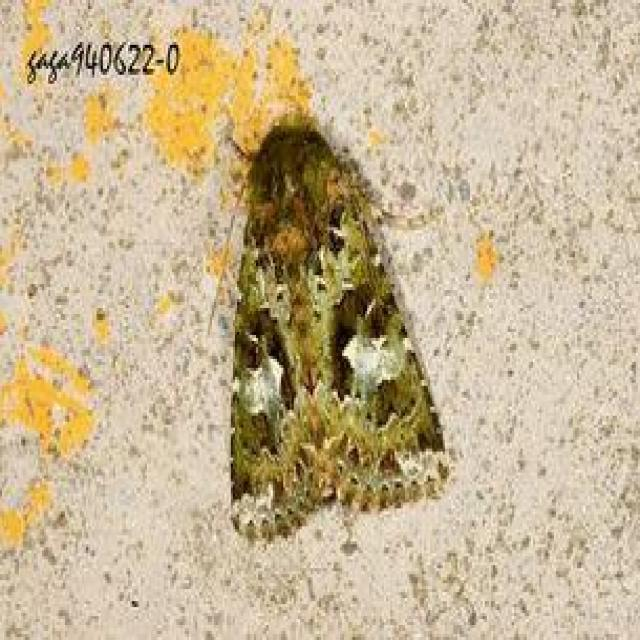BeetArmyWorm-Adult-: (200, 96, 478, 564)
